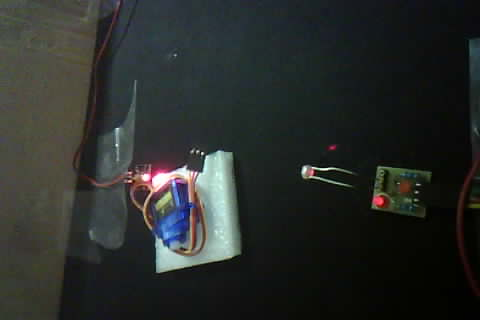motor: (126, 142, 214, 264)
